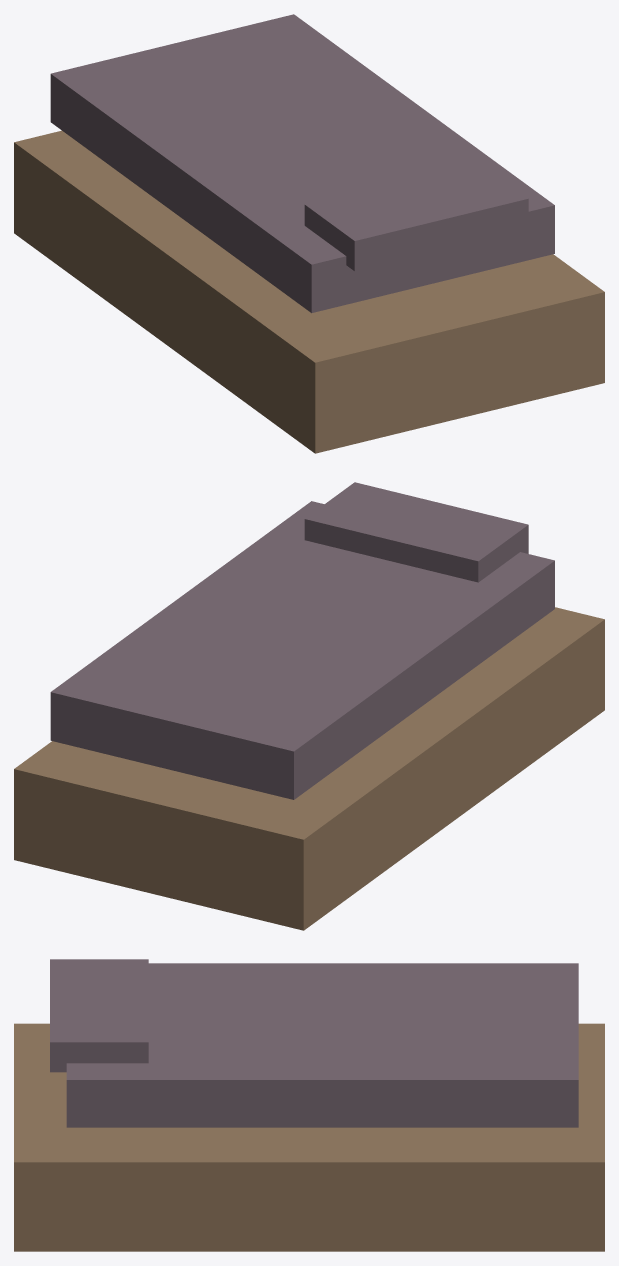
File: bed.glb
The picture shows the model from 3 angles, top to bottom: view 1: azimuth 30°, elevation 25°; view 2: azimuth 150°, elevation 25°; view 3: azimuth 270°, elevation 25°; orthographic projection.
Visible parts, largest first — view 1: bed; view 2: bed; view 3: bed.
Boxes of the visible parts, bbox=[...] form: bed: bbox=[14, 14, 604, 453]; bed: bbox=[14, 482, 604, 930]; bed: bbox=[14, 959, 604, 1251].
Bounding box in the file's own units: 0.5 × 0.305 × 0.9.
